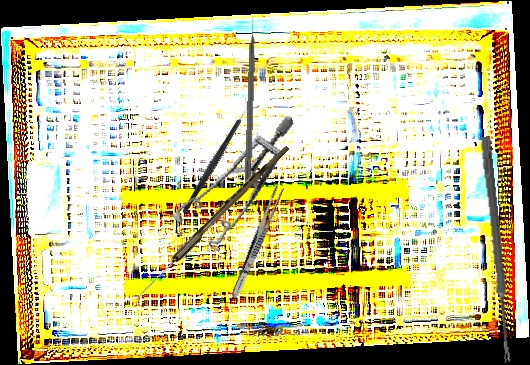Chopper: (151, 96, 280, 215)
Dressing Forceps: (228, 182, 286, 302)
Hook Surgical: (244, 15, 259, 187)
Speculum: (154, 114, 323, 262)
Surgical Spoon: (132, 141, 290, 305), (479, 136, 514, 363)
